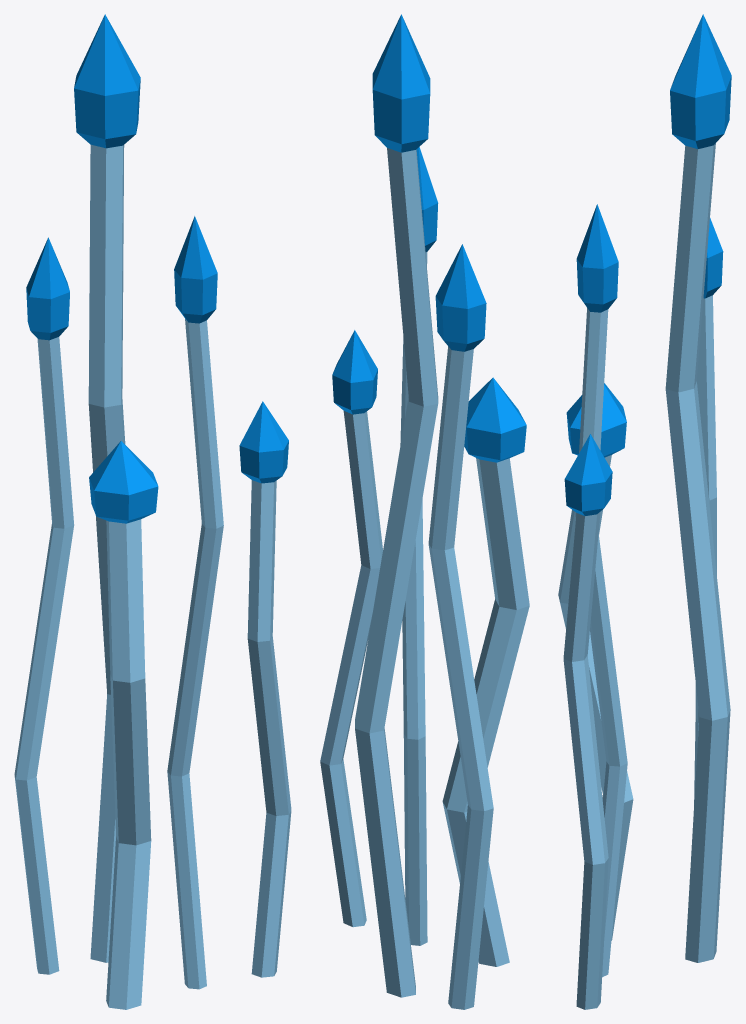
Rendered from crystal plant.fbx.
The picture shows the model from 3 angles, left to right: view 1: azimuth 30°, elevation 25°; view 2: azimuth 150°, elevation 25°; view 3: azimuth 270°, elevation 25°; orthographic projection. The views are drawn at different scales.
Visible parts, largest first — view 1: SP_Plant06, Top; view 2: SP_Plant06, Top; view 3: SP_Plant06, Top.
Part boxes in pixels (<box>): SP_Plant06: <box>14,144,291,1009</box>; Top: <box>26,14,288,523</box>; SP_Plant06: <box>320,148,529,1009</box>; Top: <box>332,14,526,462</box>; SP_Plant06: <box>558,143,730,1009</box>; Top: <box>564,14,731,515</box>.
Bounding box in the file's own units: 26.16 × 107 × 17.85.
